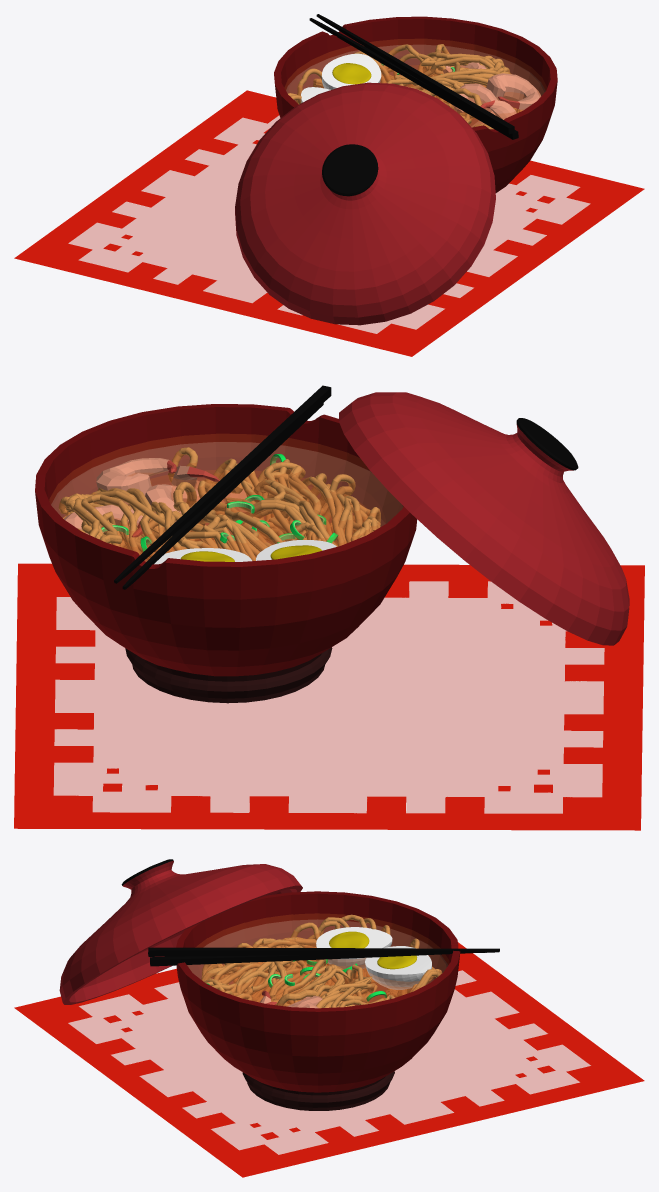
The model's file is shrimp_ramen_bowl_draco.glb.
The picture shows the model from 3 angles, top to bottom: view 1: azimuth 30°, elevation 25°; view 2: azimuth 150°, elevation 25°; view 3: azimuth 270°, elevation 25°; orthographic projection. The views are drawn at different scales.
Parts seen in each view (by area): view 1: bowltopjapan_8, Plane_31, bowljapan_6, soup.r_30, chopstick.j_9, shrimp2.002_27, chopstick.j2_10, boildegg_2, boildeggyellow_4, Object_90, shrimp2.003_28, Object_85 (+1 smaller); view 2: Plane_31, bowljapan_6, bowltopjapan_8, soup.r_30, bowljapan.d_7, chopstick.j_9, Object_88, shrimp2.002_27, Object_93, Object_82, chopstick.j2_10, Object_85 (+14 smaller); view 3: Plane_31, bowljapan_6, bowltopjapan_8, soup.r_30, bowljapan.d_7, chopstick.j_9, chopstick.j2_10, boildegg_2, Object_88, boildegg.001_3, Object_93, Object_86 (+8 smaller).
Part boxes in pixels (x1,y1,x2,y2): bowltopjapan_8: (235,82,495,325); Plane_31: (14,90,644,356); bowljapan_6: (274,16,557,192); soup.r_30: (285,39,546,127); chopstick.j_9: (316,14,514,134); shrimp2.002_27: (486,73,540,110); chopstick.j2_10: (309,18,518,139); boildegg_2: (321,53,381,89); boildeggyellow_4: (332,63,371,84); Object_90: (353,51,496,97); shrimp2.003_28: (452,84,497,127); Object_85: (395,56,522,118); Plane_31: (14,563,644,830); bowljapan_6: (35,404,417,676); bowltopjapan_8: (338,392,629,645); soup.r_30: (49,434,402,561); bowljapan.d_7: (125,647,332,703); chopstick.j_9: (114,385,331,583); Object_88: (85,479,370,560); shrimp2.002_27: (96,458,177,505); Object_93: (94,448,370,553); Object_82: (73,447,333,544); chopstick.j2_10: (122,403,323,589); Object_85: (81,482,372,554); Plane_31: (14,942,644,1177); bowljapan_6: (176,891,460,1092); bowltopjapan_8: (59,859,302,1004); soup.r_30: (187,913,448,1006); bowljapan.d_7: (242,1071,394,1110); chopstick.j_9: (148,947,499,956); chopstick.j2_10: (150,948,499,966); boildegg_2: (365,946,431,989); Object_88: (222,940,366,1007); boildegg.001_3: (316,927,392,968); Object_93: (219,921,377,1007); Object_86: (201,914,434,1005).
Size of the model in its own units: 1.9 by 0.5656 by 1.9.
